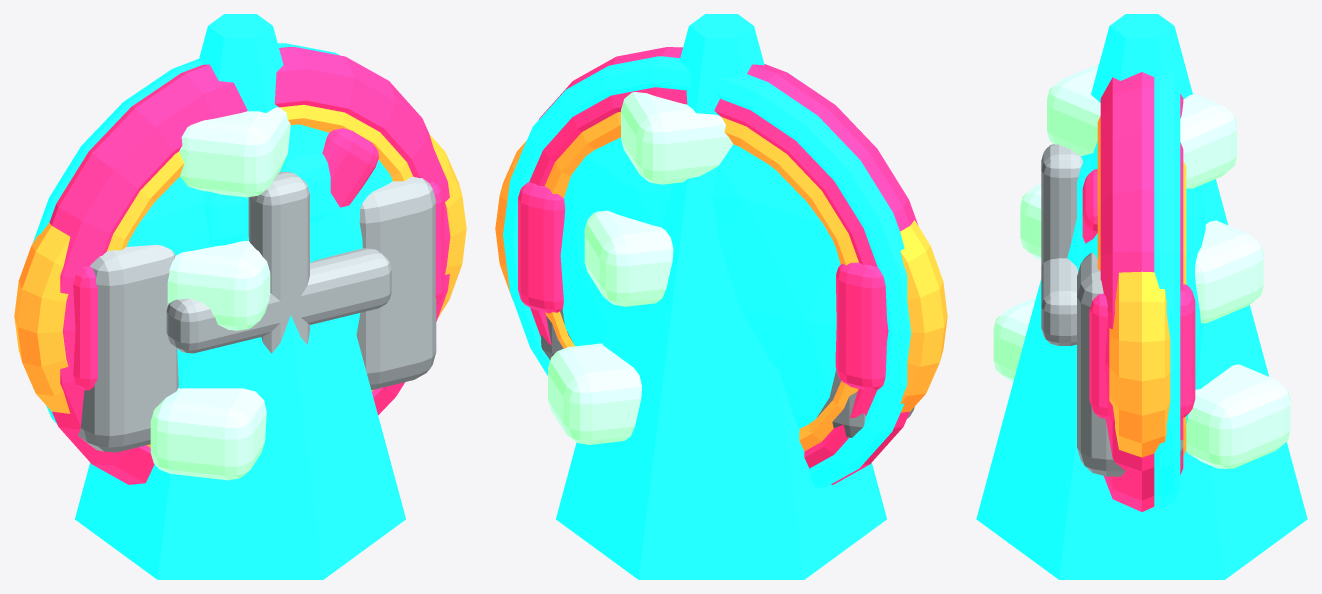
The model's file is reward-power-kit.glb.
The picture shows the model from 3 angles, left to right: view 1: azimuth 30°, elevation 25°; view 2: azimuth 150°, elevation 25°; view 3: azimuth 270°, elevation 25°; orthographic projection.
Visible parts, largest first — view 1: ShardCrystal, MagnetField, MagnetPole_-0.25, MagnetPole_0.25, JumpChevron_0.001, ShieldCrossH, ShieldShell, JumpChevron_2, MultiplierLoop_-0.17, ShieldCrossV, JumpChevron_1, TokenOuter (+6 smaller); view 2: ShardCrystal, ShieldShell, JumpHalo, MagnetField, JumpChevron_0.001, TokenOuter, JumpChevron_2, JumpChevron_1, ShardClamp_-0.31, MultiplierLoop_-0.17, ShardClamp_0.31, MultiplierLoop_0.17 (+1 smaller); view 3: ShardCrystal, MagnetField, JumpChevron_0.001, MultiplierLoop_0.17, JumpHalo, JumpChevron_2, JumpChevron_1, MagnetPole_0.25, ShardClamp_0.31, ShieldCrossV, ShieldCrossH, ShieldShell (+3 smaller).
Part boxes in pixels (bbox=[...]): ShardCrystal: bbox=[75, 14, 405, 579]; MagnetField: bbox=[49, 47, 450, 484]; MagnetPole_-0.25: bbox=[78, 244, 178, 452]; MagnetPole_0.25: bbox=[356, 176, 436, 389]; JumpChevron_0.001: bbox=[150, 388, 266, 480]; ShieldCrossH: bbox=[166, 248, 391, 353]; ShieldShell: bbox=[126, 124, 392, 382]; JumpChevron_2: bbox=[179, 107, 290, 197]; MultiplierLoop_-0.17: bbox=[14, 223, 70, 413]; ShieldCrossV: bbox=[248, 171, 309, 353]; JumpChevron_1: bbox=[167, 241, 270, 330]; TokenOuter: bbox=[107, 104, 412, 447]; ShardCrystal: bbox=[556, 14, 886, 579]; ShieldShell: bbox=[560, 137, 840, 428]; JumpHalo: bbox=[503, 56, 911, 488]; MagnetField: bbox=[529, 47, 918, 484]; JumpChevron_0.001: bbox=[548, 343, 641, 444]; TokenOuter: bbox=[544, 112, 858, 451]; JumpChevron_2: bbox=[621, 71, 805, 184]; JumpChevron_1: bbox=[584, 210, 673, 306]; ShardClamp_-0.31: bbox=[835, 262, 886, 390]; MultiplierLoop_-0.17: bbox=[900, 220, 947, 412]; ShardClamp_0.31: bbox=[518, 182, 565, 313]; MultiplierLoop_0.17: bbox=[495, 141, 526, 299]; ShardCrystal: bbox=[976, 14, 1307, 579]; MagnetField: bbox=[1100, 72, 1183, 511]; JumpChevron_0.001: bbox=[993, 297, 1290, 468]; MultiplierLoop_0.17: bbox=[1109, 271, 1170, 457]; JumpHalo: bbox=[1154, 70, 1180, 508]; JumpChevron_2: bbox=[1047, 64, 1236, 188]; JumpChevron_1: bbox=[1020, 183, 1263, 323]; MagnetPole_0.25: bbox=[1077, 252, 1183, 476]; ShardClamp_0.31: bbox=[1089, 284, 1195, 418]; ShieldCrossV: bbox=[1041, 144, 1082, 266]; ShieldCrossH: bbox=[1041, 258, 1077, 345]; ShieldShell: bbox=[1077, 141, 1205, 423].
Bounding box in the file's own units: 0.87 × 0.92 × 0.56.
